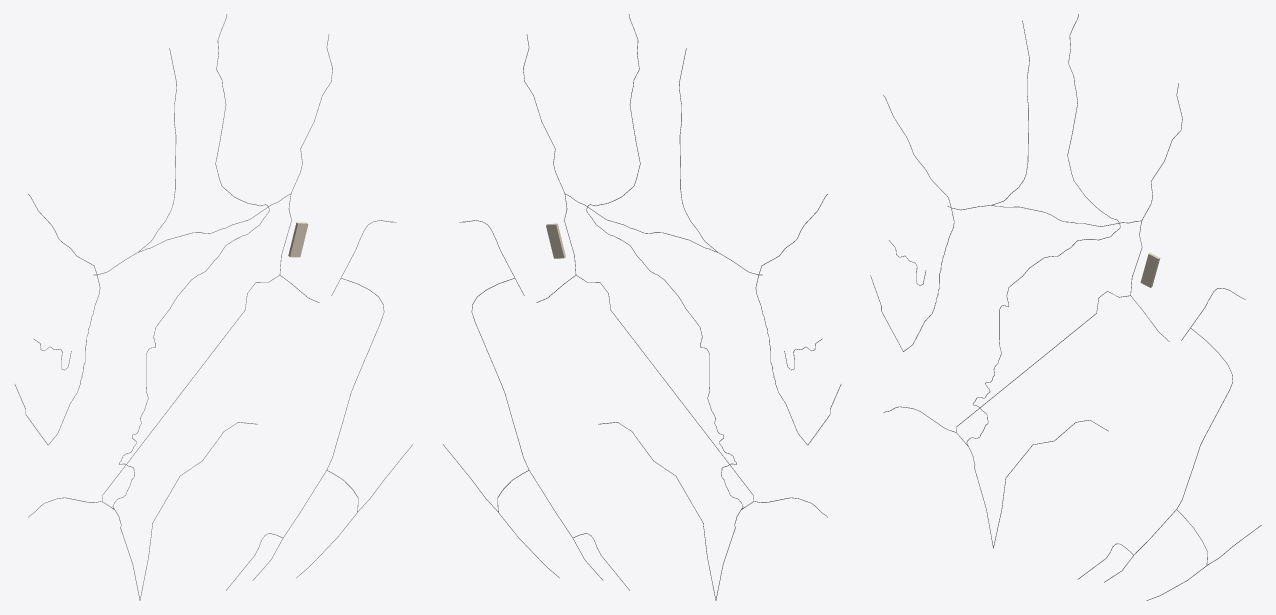
Rendered from historic-palestine-08_31_3497_3256.glb.
The picture shows the model from 3 angles, left to right: view 1: azimuth 30°, elevation 25°; view 2: azimuth 150°, elevation 25°; view 3: azimuth 330°, elevation 25°; orthographic projection.
Size of the model in its own units: 1028 by 1431 by 8.7.
